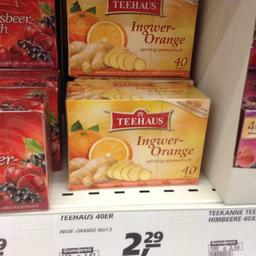tea: (64, 82, 209, 191), (64, 0, 198, 79)
